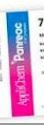ApplichemPanreac: (12, 21, 30, 107)
